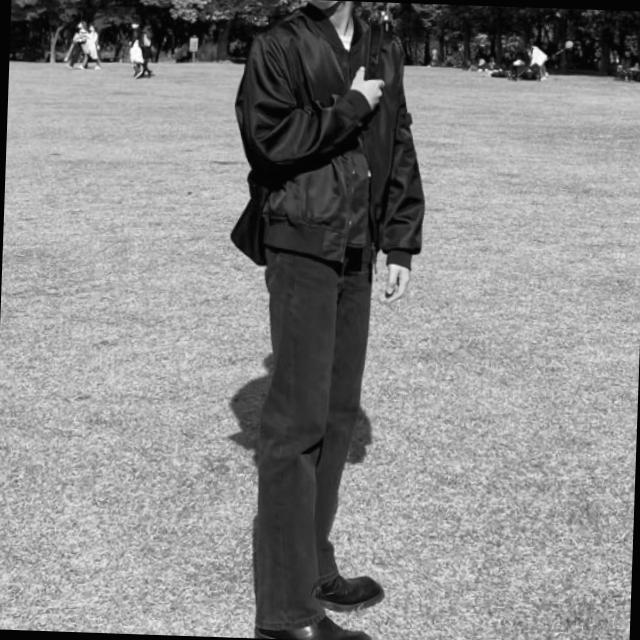denimpants: (245, 230, 376, 631)
jacket: (228, 0, 431, 267)
